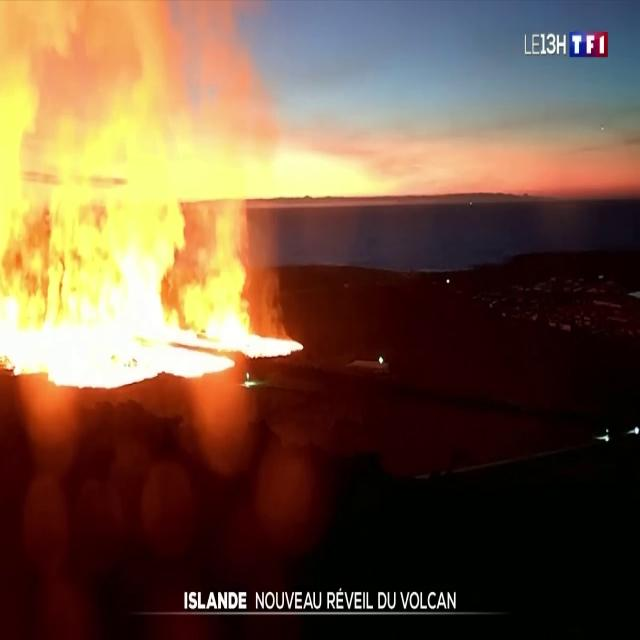Fire: (0, 0, 294, 397)
